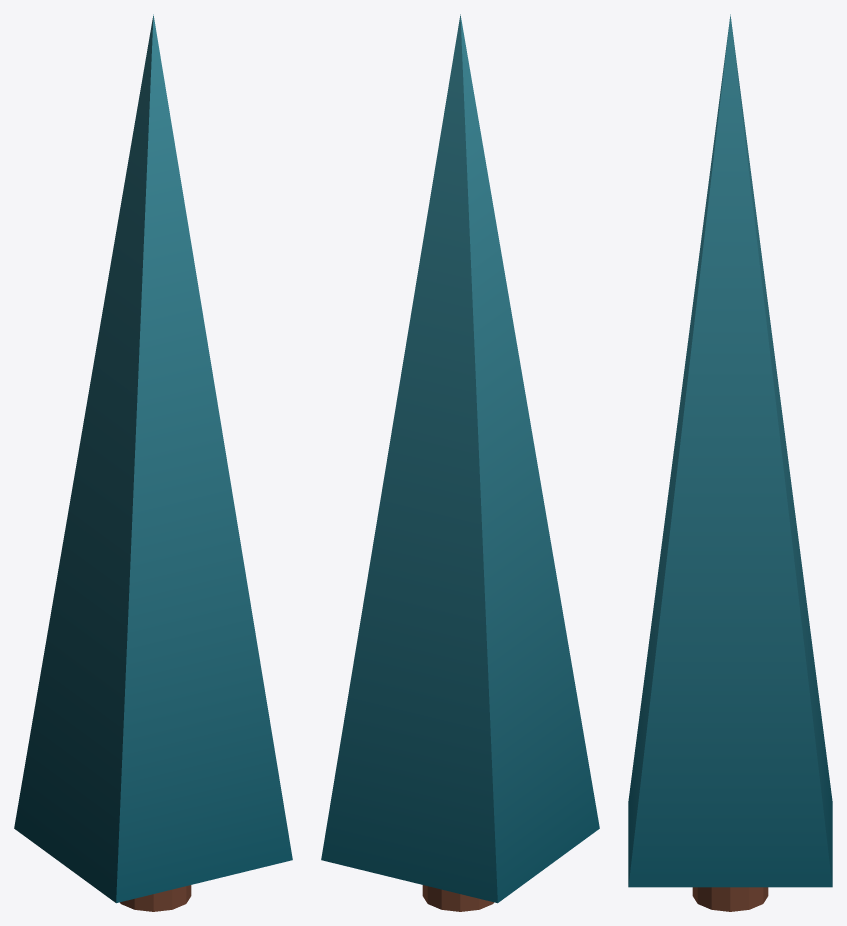
Rendered from Tree_19_gradient_blue_vc.fbx.
3 views of the same model, side by side, from view 1: azimuth 30°, elevation 25°; view 2: azimuth 150°, elevation 25°; view 3: azimuth 270°, elevation 25° (orthographic).
Visible parts, largest first — view 1: Tree_19_gradient_blue_vc; view 2: Tree_19_gradient_blue_vc; view 3: Tree_19_gradient_blue_vc.
Boxes of the visible parts, <box> form: Tree_19_gradient_blue_vc: <box>14,14,292,911</box>; Tree_19_gradient_blue_vc: <box>321,14,599,911</box>; Tree_19_gradient_blue_vc: <box>628,14,832,911</box>.
Bounding box in the file's own units: 59.69 × 285 × 59.69.
